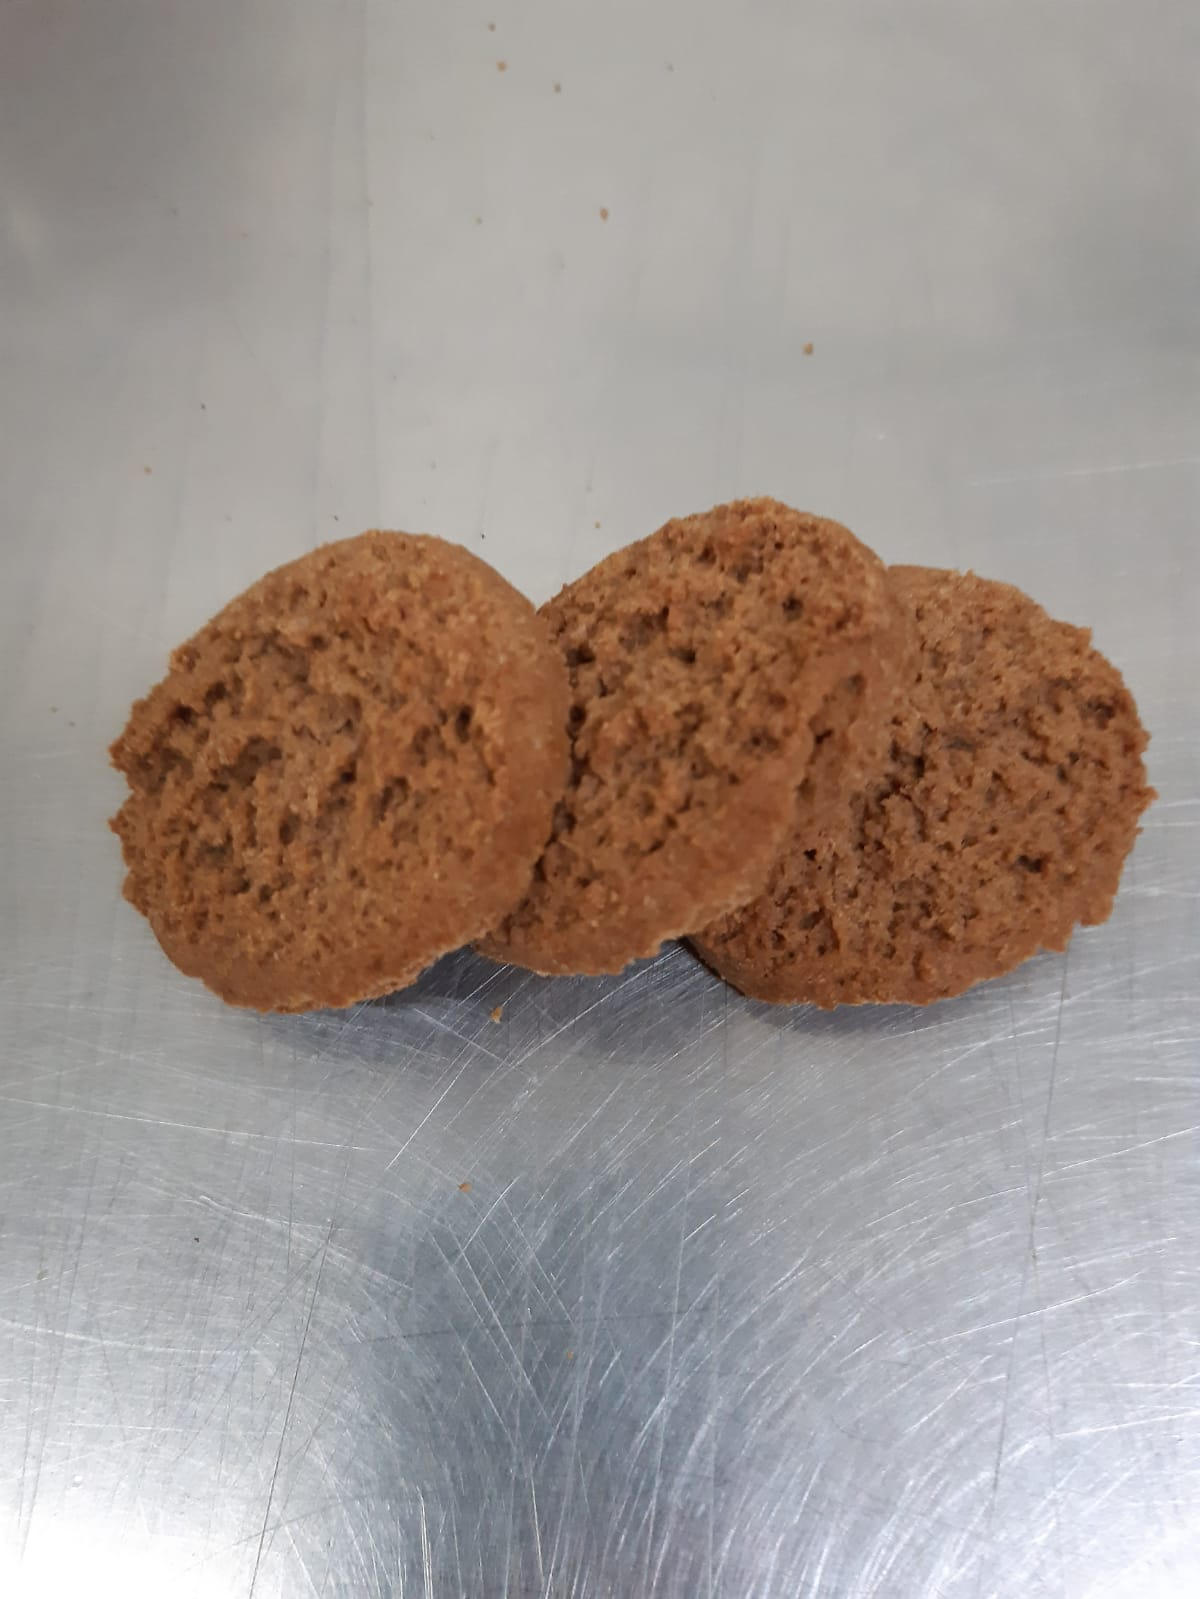Cookie3: (434, 491, 908, 984), (644, 565, 1146, 1004), (113, 530, 567, 1013)
